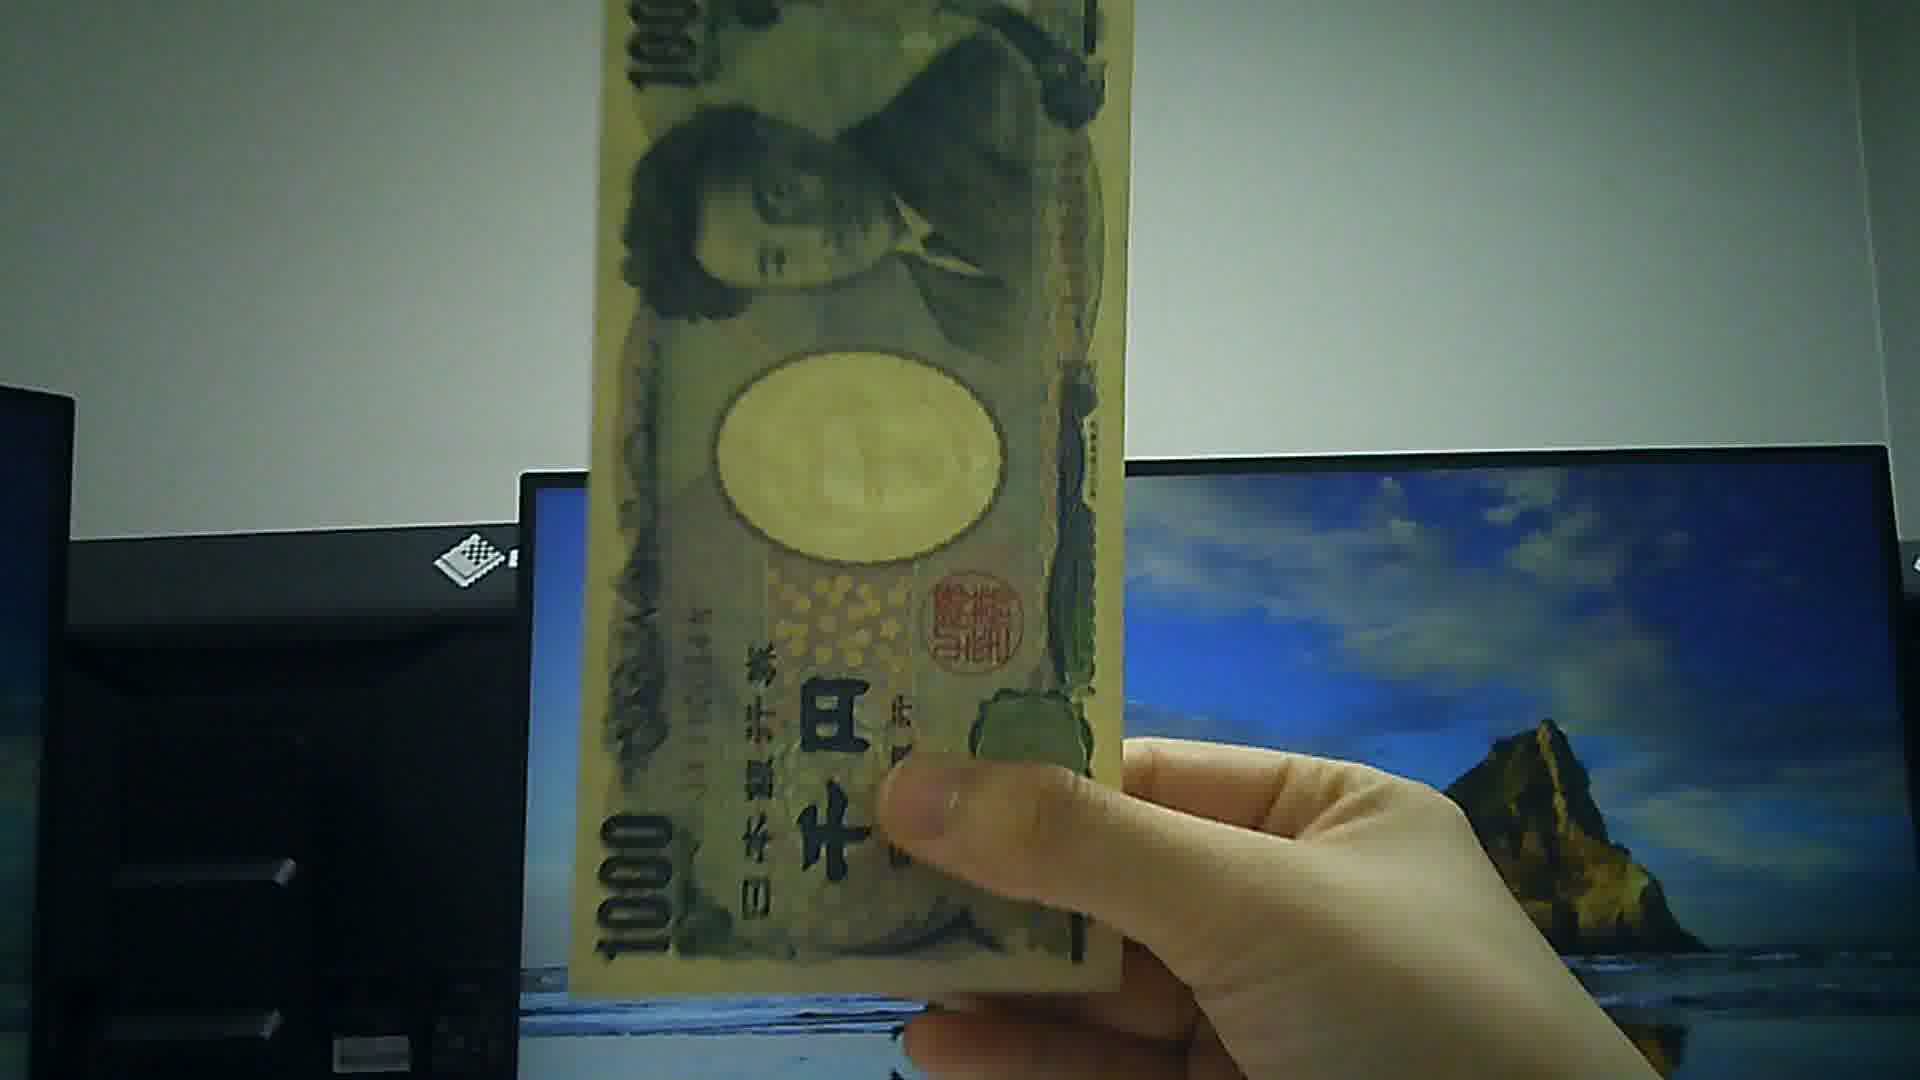1,000 Yen: (570, 13, 1127, 1026)
